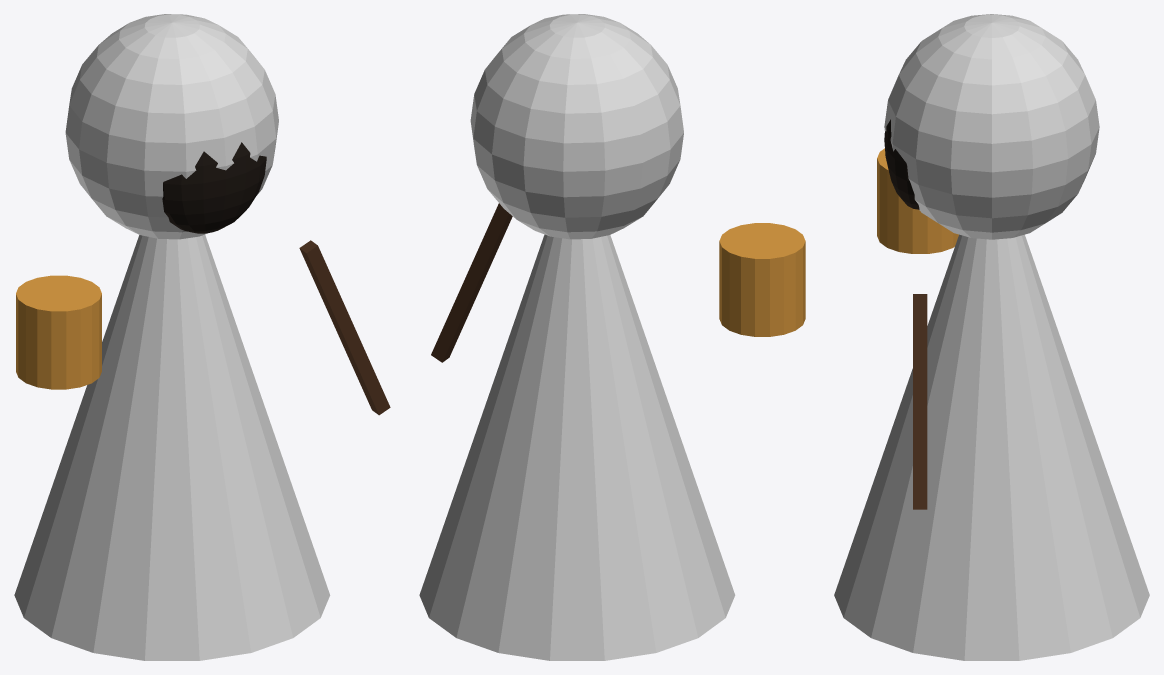
Rendered from robed-figure.d112ef17.glb.
The picture shows the model from 3 angles, left to right: view 1: azimuth 30°, elevation 25°; view 2: azimuth 150°, elevation 25°; view 3: azimuth 270°, elevation 25°; orthographic projection.
Parts seen in each view (by area): view 1: accent, body; view 2: accent, body; view 3: accent, body.
Boxes of the visible parts, x1=… form: accent: x1=14, y1=14, x2=330, y2=660; body: x1=16, y1=142, x2=390, y2=415; accent: x1=419, y1=14, x2=735, y2=660; body: x1=431, y1=203, x2=805, y2=362; accent: x1=834, y1=14, x2=1149, y2=660; body: x1=877, y1=119, x2=958, y2=509.
Size of the model in its own units: 0.5867 by 0.88 by 0.44.
